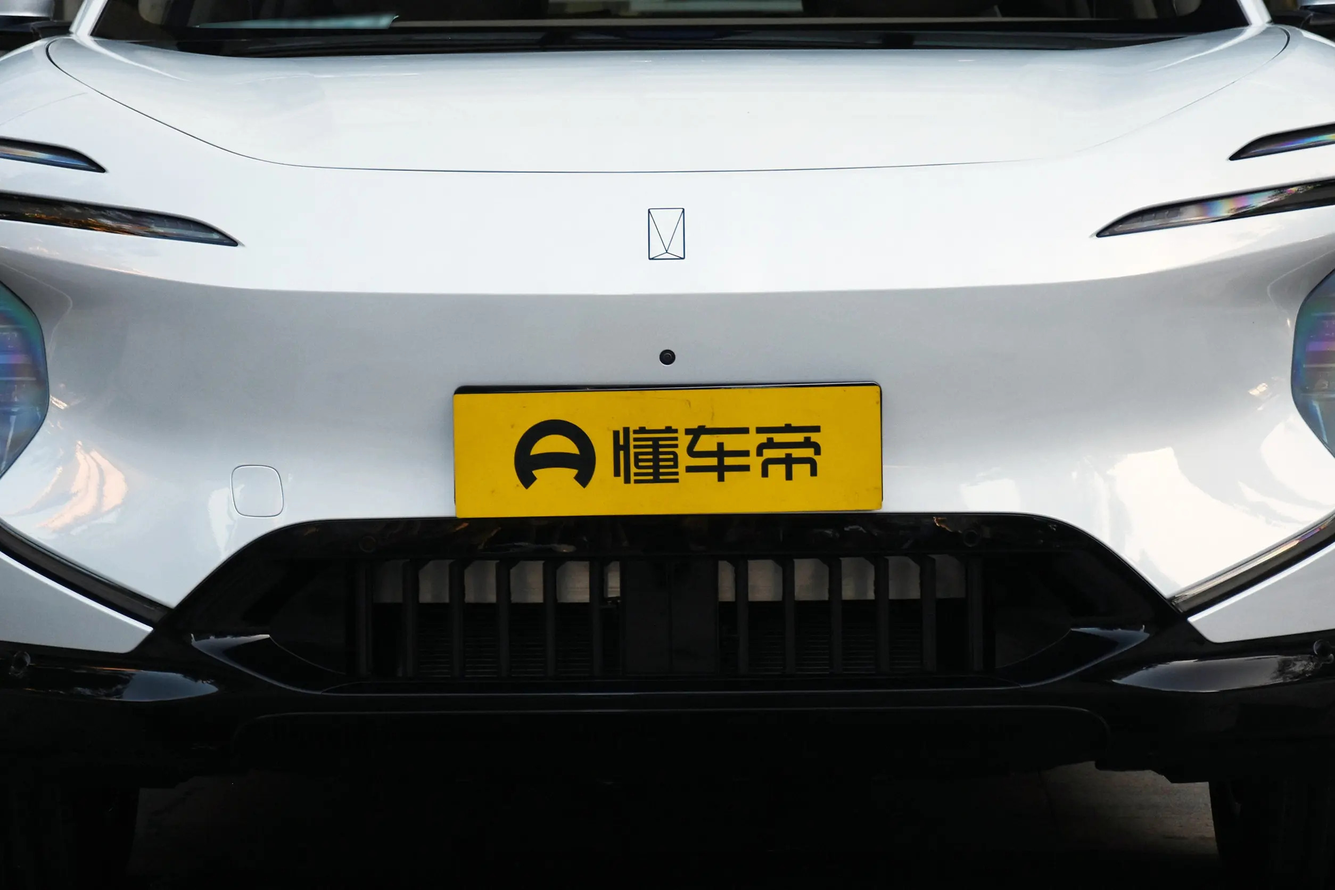AVATR: (648, 208, 685, 260)
